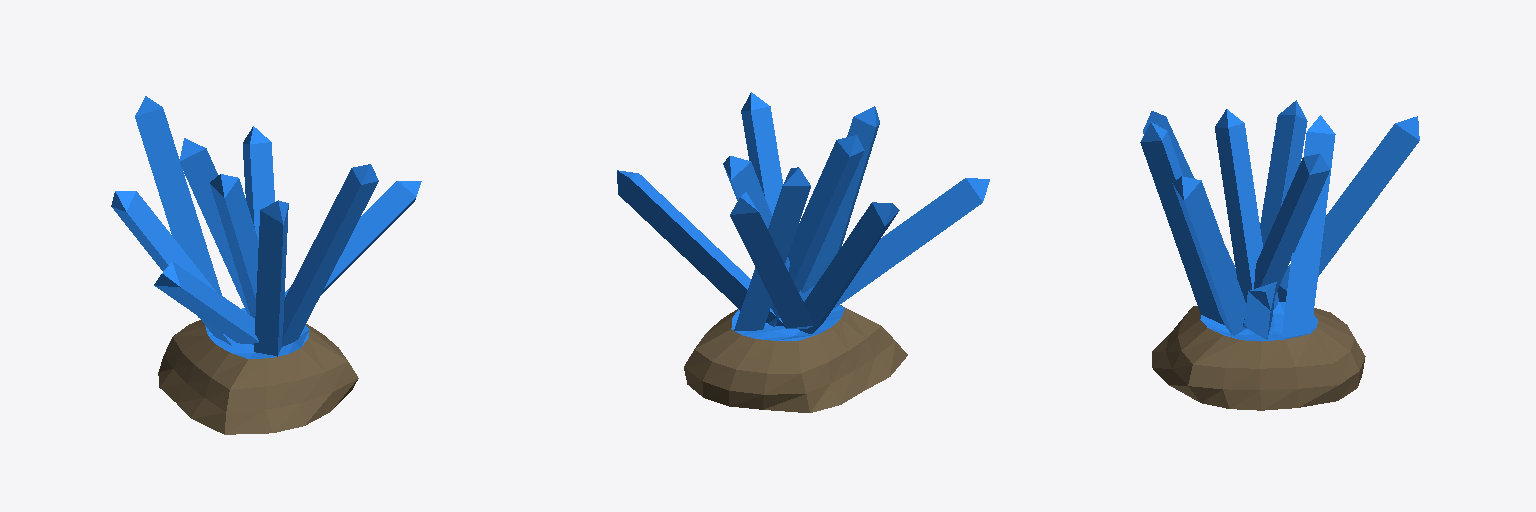
Rendered from resource.obj.
3 views of the same model, side by side, from view 1: azimuth 30°, elevation 25°; view 2: azimuth 150°, elevation 25°; view 3: azimuth 270°, elevation 25° (orthographic).
Parts seen in each view (by area): view 1: resource; view 2: resource; view 3: resource.
Boxes of the visible parts, <box> form: resource: <box>111,96,421,434</box>; resource: <box>617,92,989,412</box>; resource: <box>1140,100,1419,410</box>.
Bounding box in the file's own units: 17.58 × 12.68 × 13.41.